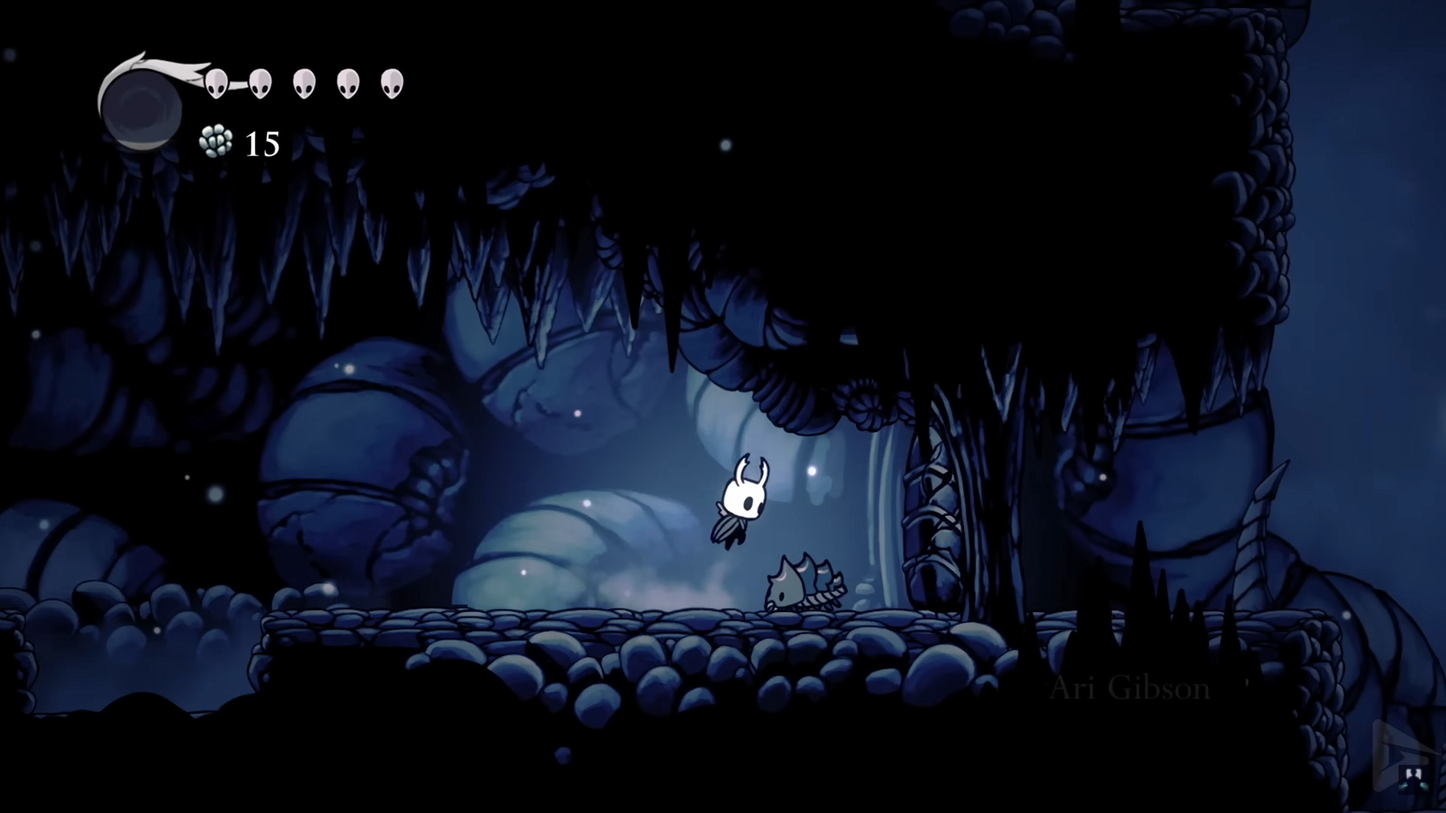HK: (710, 451, 772, 555)
